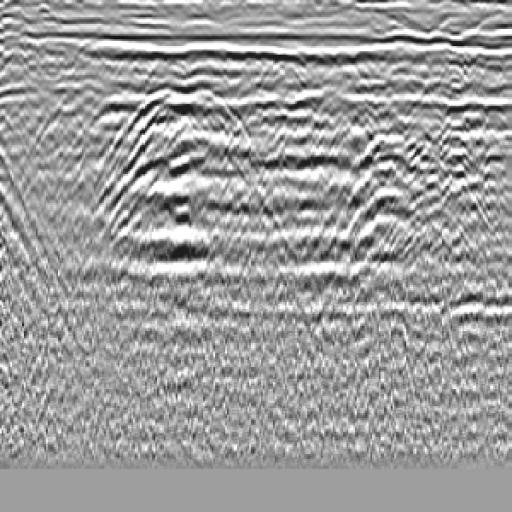metalic: (105, 66, 260, 224)
